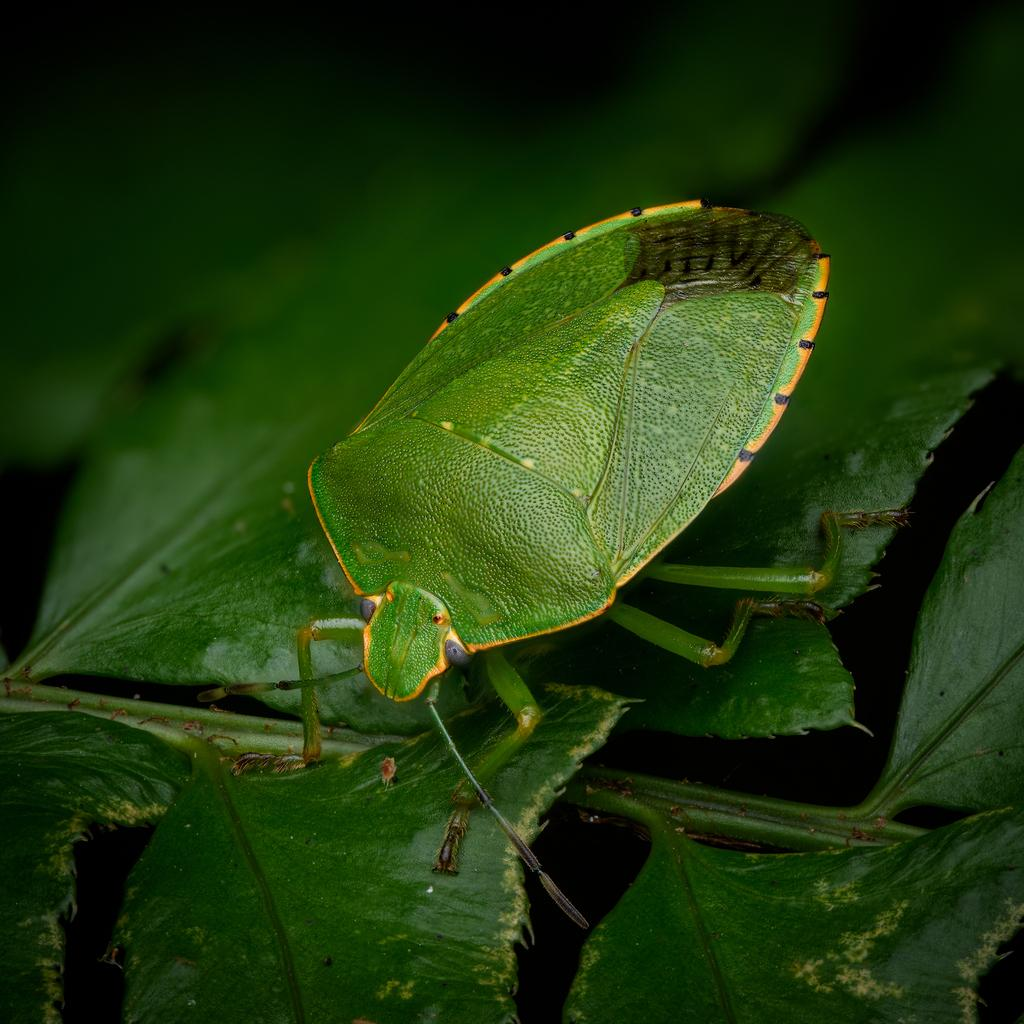stink_bugs: (101, 125, 927, 971)
